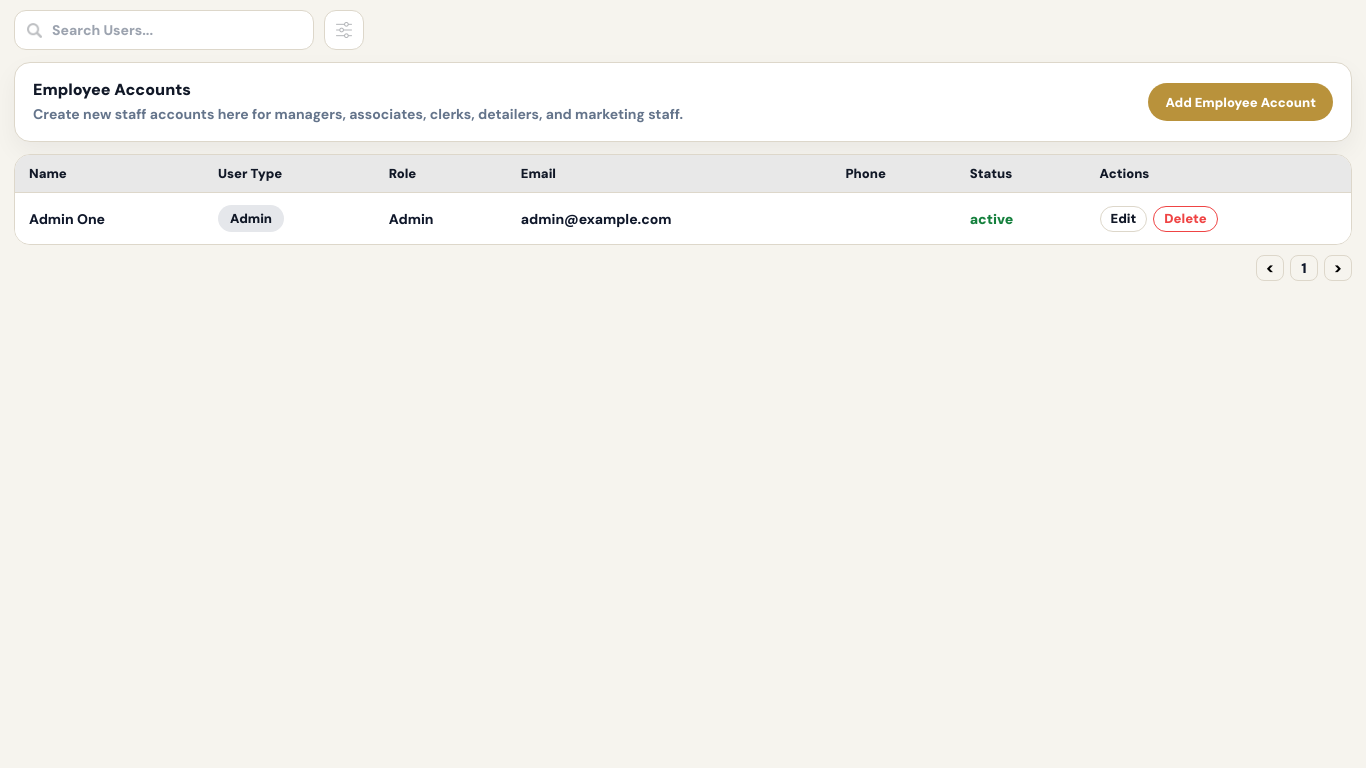
Scenario: Add Employee Account modal validation › starts with Create Employee genuinely disabled on the empty form
Click the button "Add Employee Account" at (1241, 102), box [1148,83,1333,121]
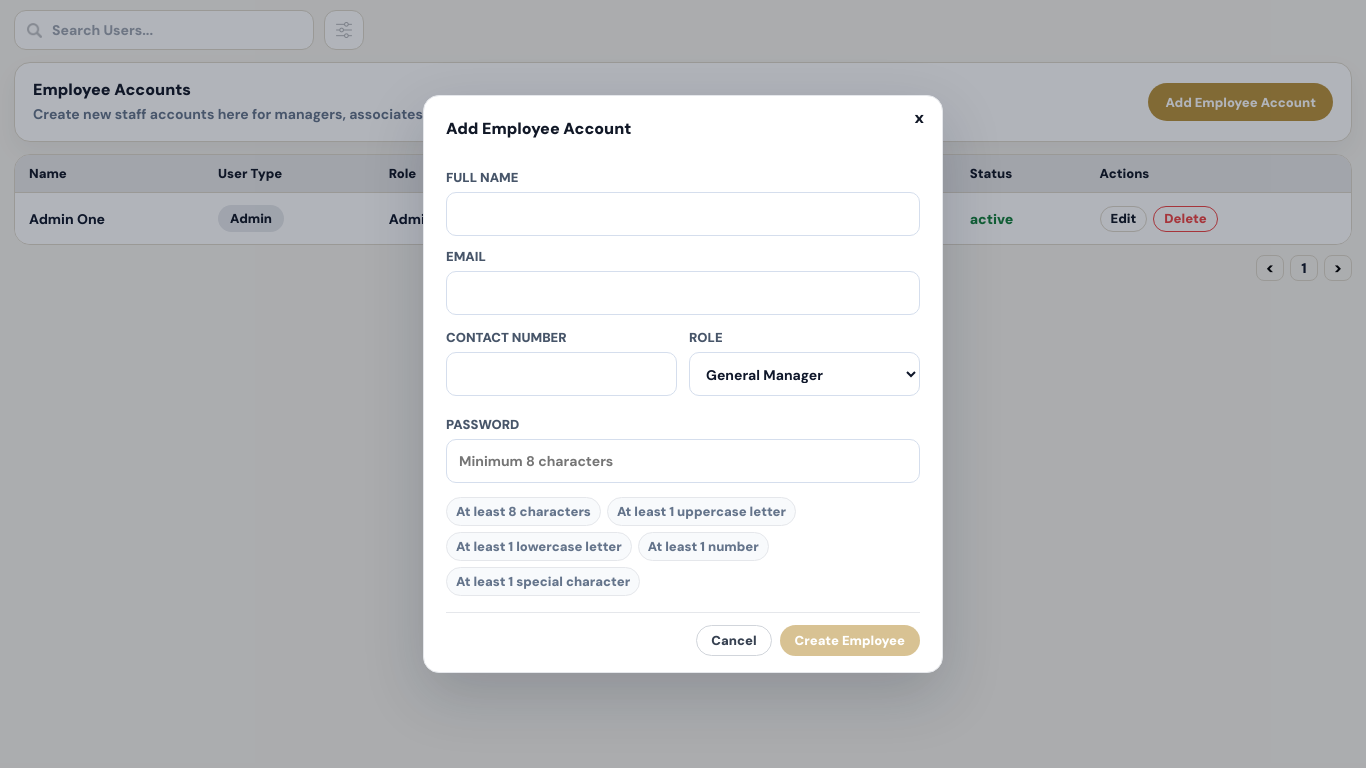
Now the dialog "Add Employee Account" is shown, box [423,95,943,673]
Now the button "Create Employee" is disabled, box [780,625,920,656]
